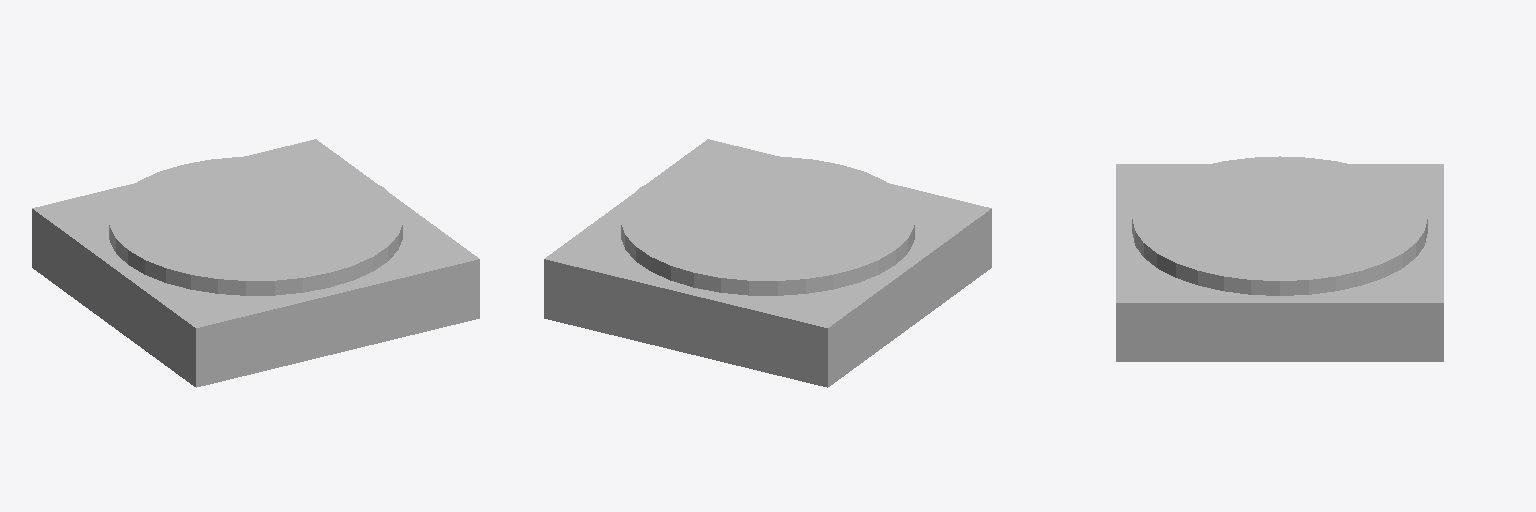
Rendered from n_switch.obj.
3 renders of one model, left to right at view 1: azimuth 30°, elevation 25°; view 2: azimuth 150°, elevation 25°; view 3: azimuth 270°, elevation 25°, orthographic.
Visible parts, largest first — view 1: Cylinder; view 2: Cylinder; view 3: Cylinder.
Part boxes in pixels (bbox=[...]): Cylinder: bbox=[32, 139, 479, 387]; Cylinder: bbox=[544, 139, 991, 387]; Cylinder: bbox=[1116, 156, 1443, 361].
Bounding box in the file's own units: 2 × 0.5 × 2.